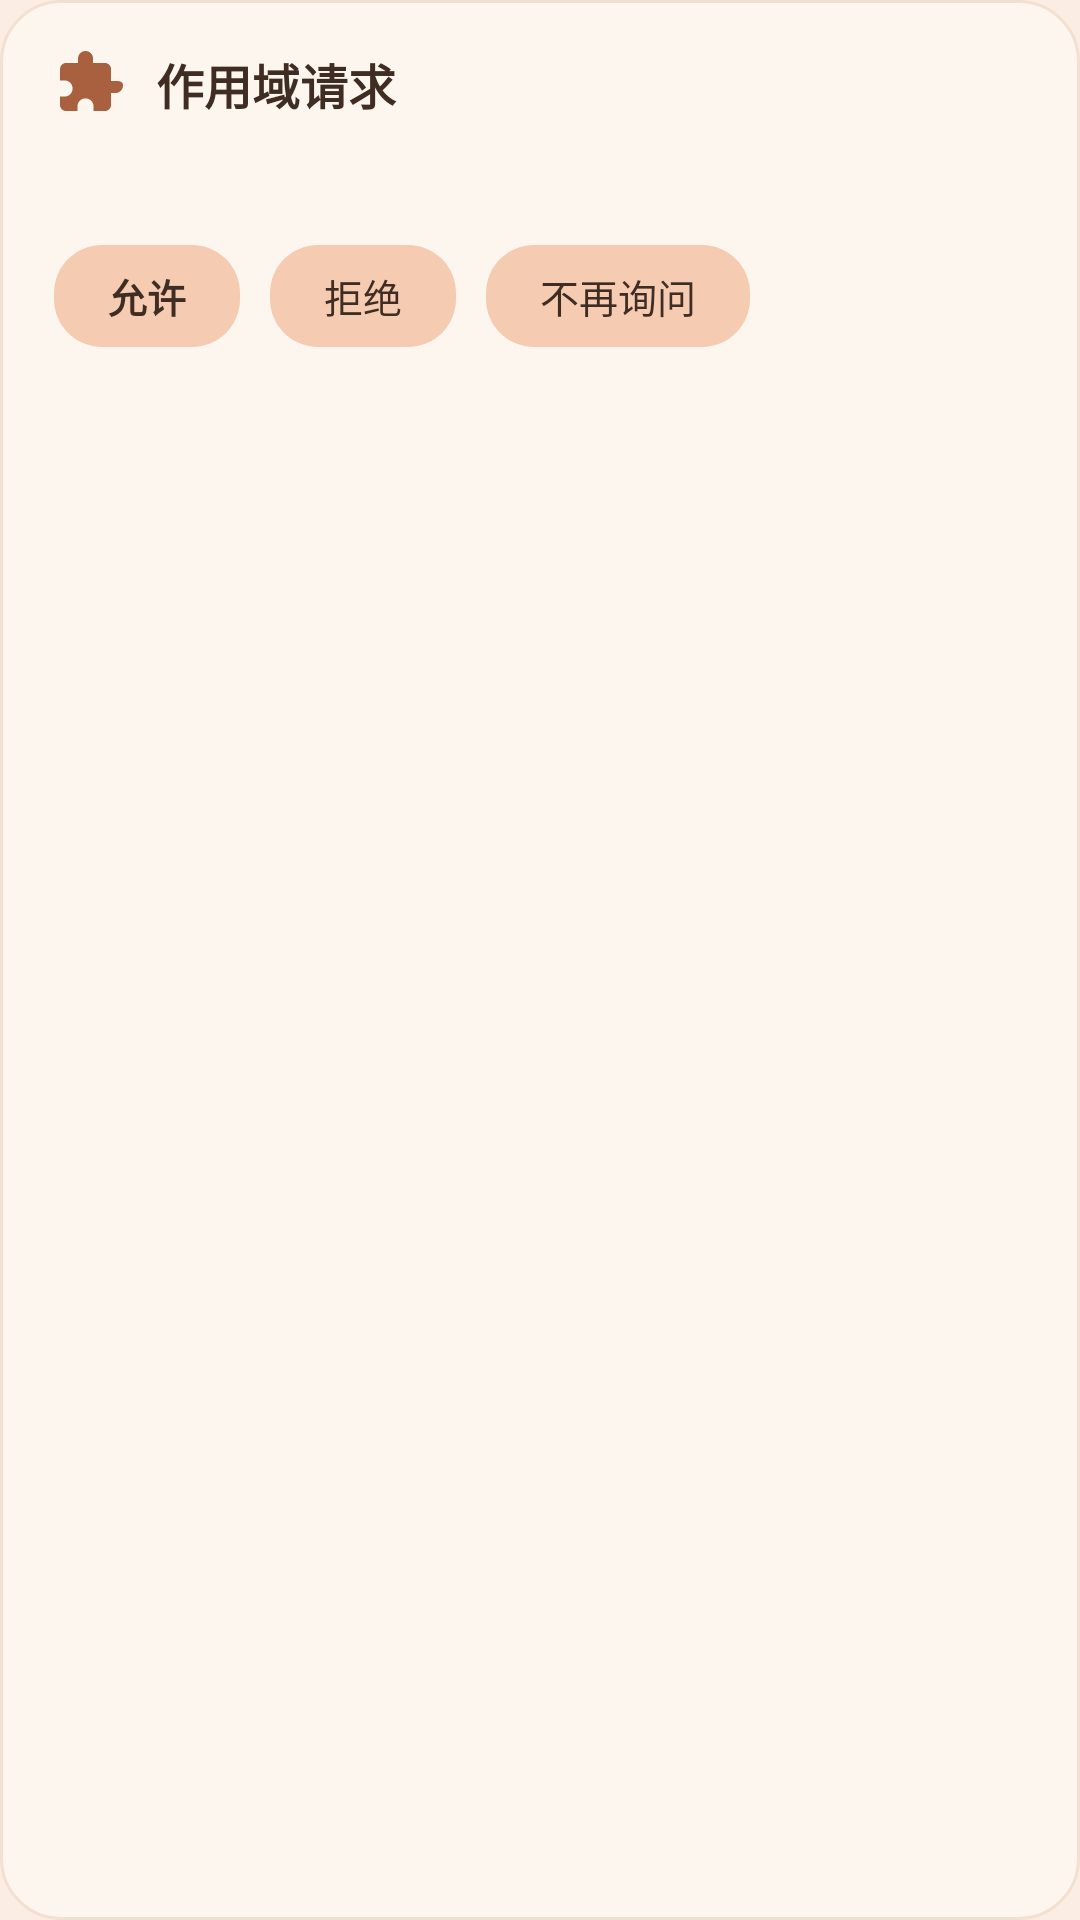

Screen size 1080w x 1920h. Icon name, then its box in pixels as (x1,y1,x2,y2):
ext: (60,51,123,111)
